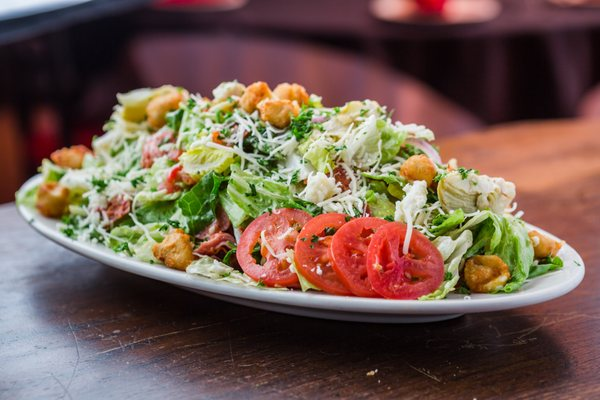curry: (29, 24, 600, 391), (2, 158, 580, 393)
